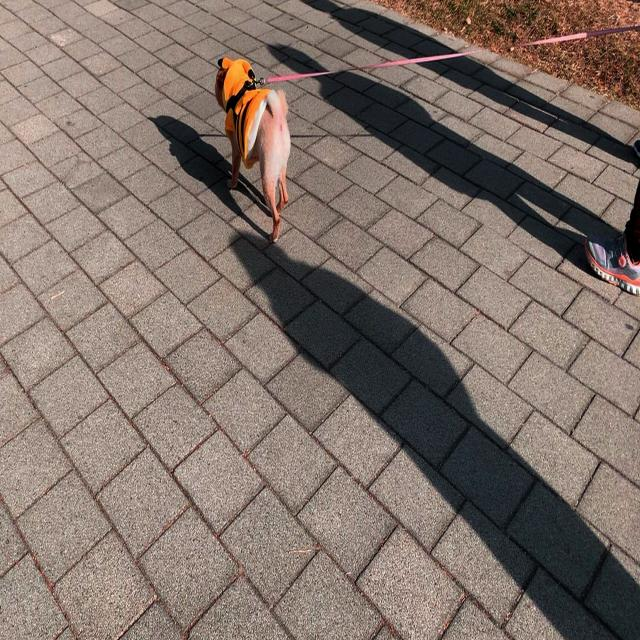Dog: (212, 52, 295, 247)
